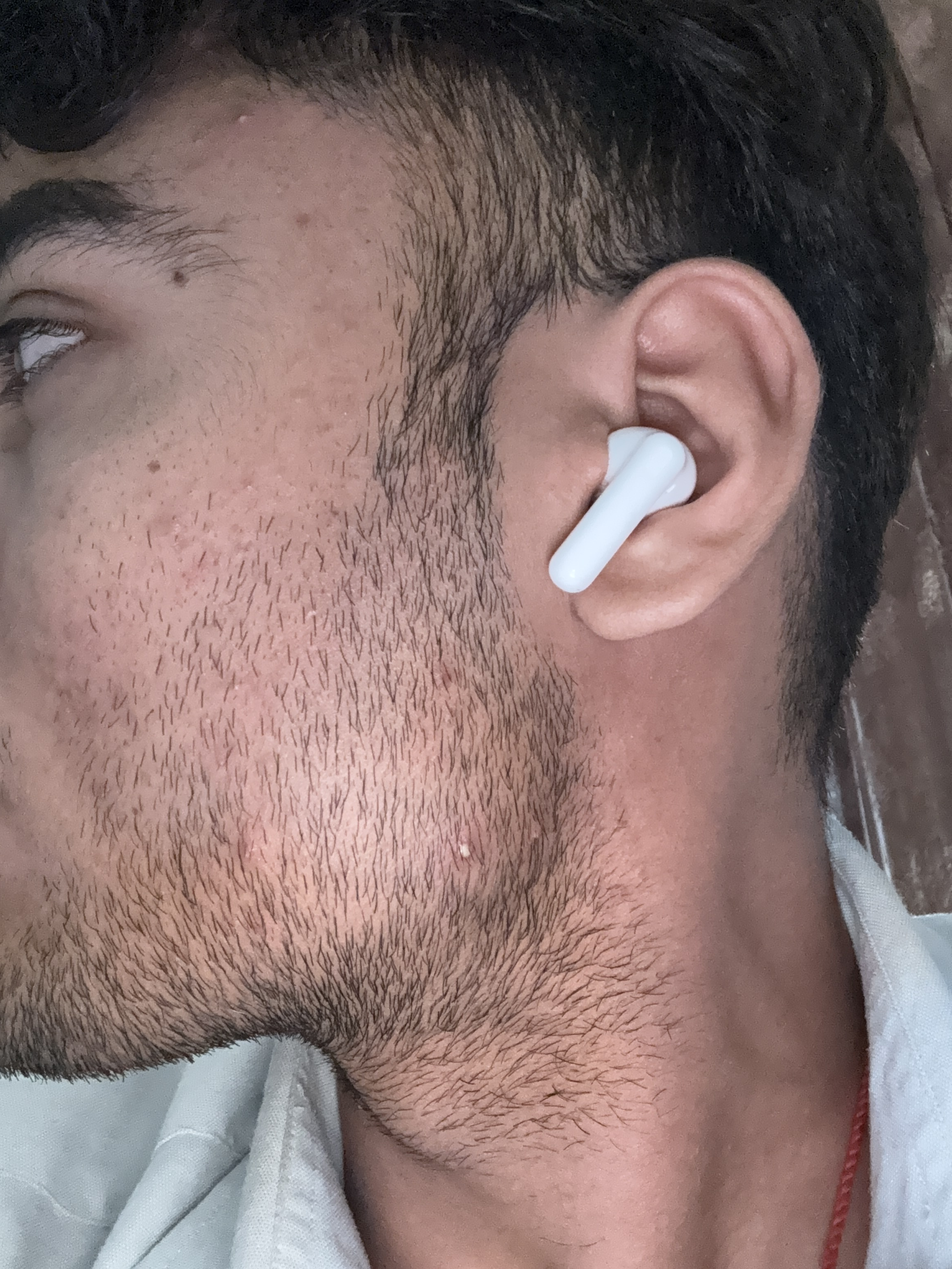closed_comedone: (456, 842, 477, 859), (203, 713, 214, 727), (272, 474, 284, 485), (305, 607, 316, 618), (231, 684, 243, 693), (246, 482, 254, 491)
macrocomedone: (294, 394, 305, 405)
nodule: (238, 830, 262, 864)
papule: (436, 669, 453, 688)
pustule: (232, 114, 256, 127)
